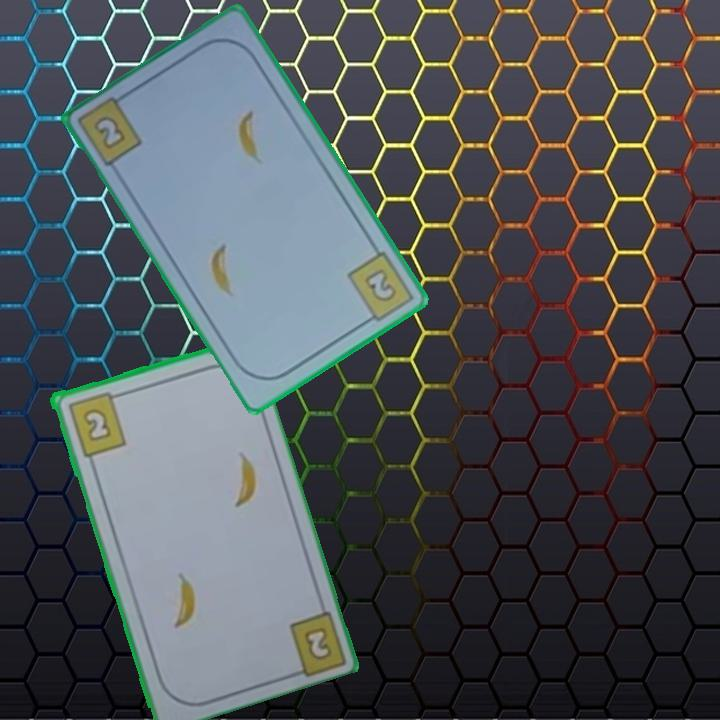2b: (343, 247, 417, 329), (64, 388, 129, 459), (90, 112, 130, 153), (300, 623, 335, 663)
